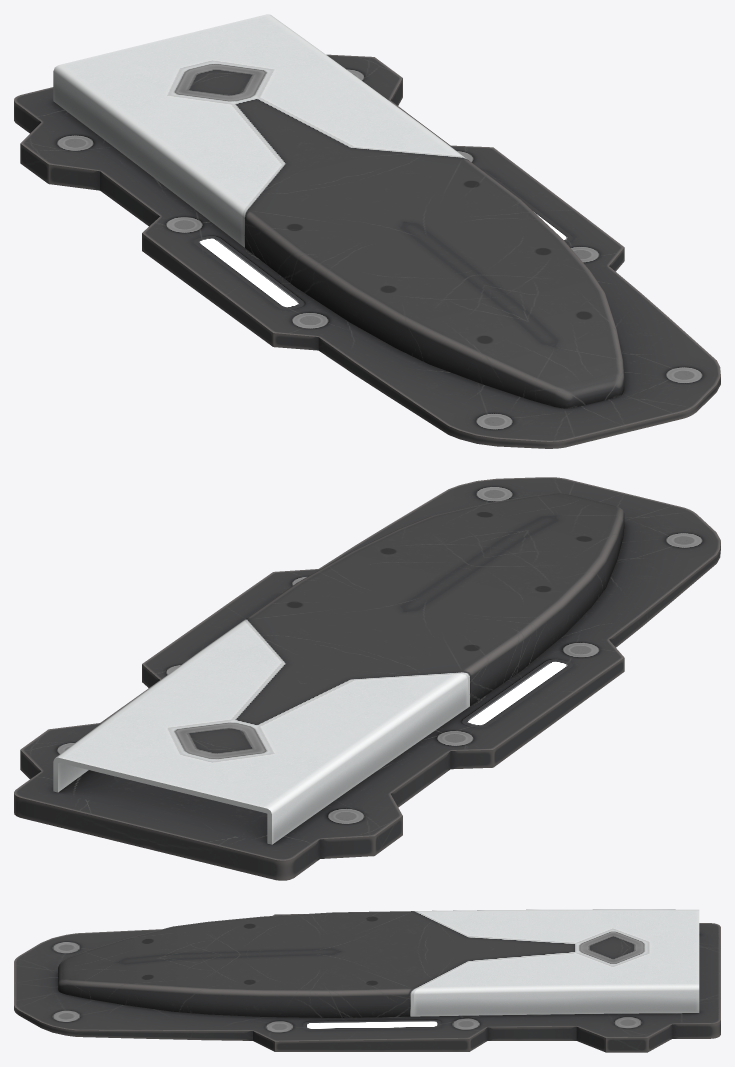
File: MeleeKnife03_2.FBX
The picture shows the model from 3 angles, top to bottom: view 1: azimuth 30°, elevation 25°; view 2: azimuth 150°, elevation 25°; view 3: azimuth 270°, elevation 25°; orthographic projection. The views are drawn at different scales.
Visible parts, largest first — view 1: MeleeKnife03_2; view 2: MeleeKnife03_2; view 3: MeleeKnife03_2.
Part boxes in pixels (x1,y1,x2,y2): MeleeKnife03_2: (14,14,720,448); MeleeKnife03_2: (14,477,720,880); MeleeKnife03_2: (14,909,720,1052).
Size of what is drawn, in the model's own units: 0.1221 by 0.0182 by 0.2845.
